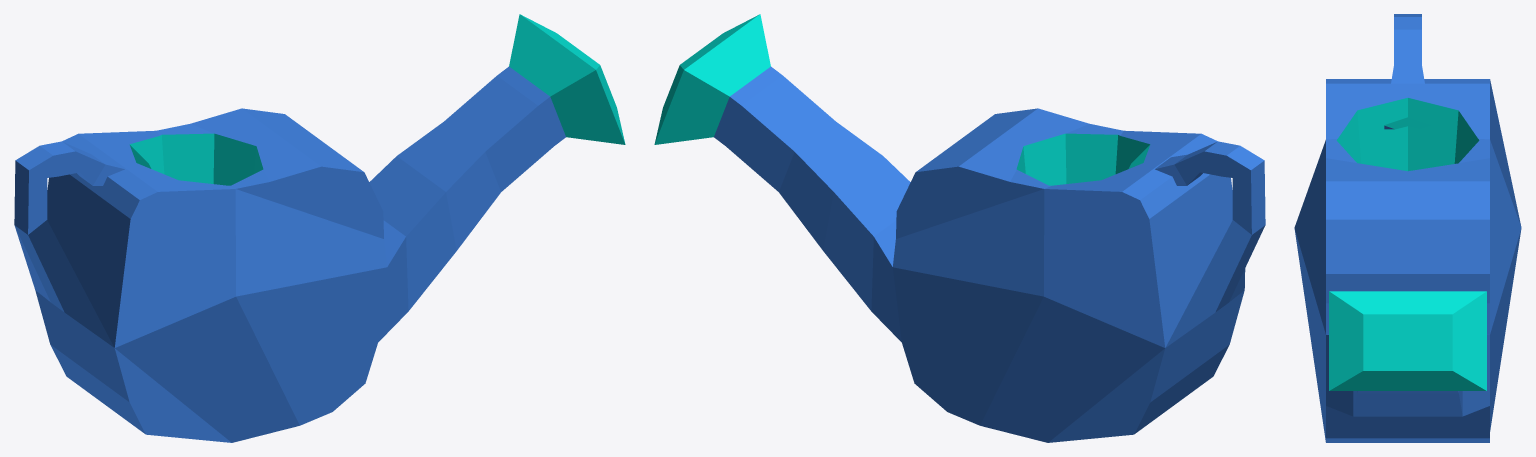
File: gieskanne.fbx
3 renders of one model, left to right at view 1: azimuth 30°, elevation 25°; view 2: azimuth 150°, elevation 25°; view 3: azimuth 270°, elevation 25°, orthographic. The views are drawn at different scales.
Parts seen in each view (by area): view 1: Cube; view 2: Cube; view 3: Cube.
Boxes of the visible parts, x1,y1,x2,y2 form: Cube: [14, 14, 625, 442]; Cube: [654, 14, 1265, 442]; Cube: [1294, 14, 1521, 442].
Bounding box in the file's own units: 359 × 178 × 119.
